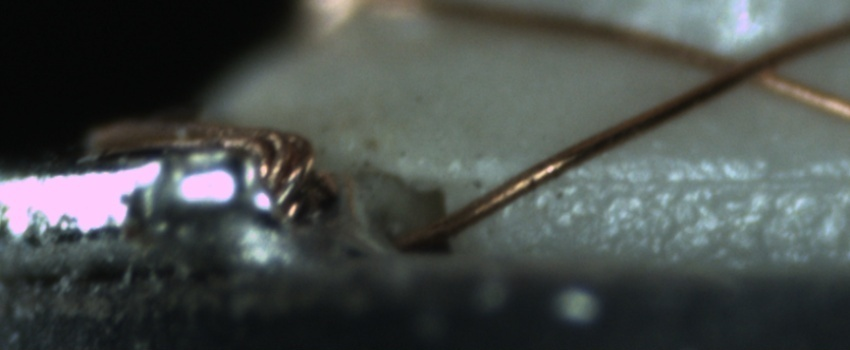CL: (686, 36, 808, 94)
DL: (551, 149, 849, 208)
TE: (81, 112, 323, 219)
